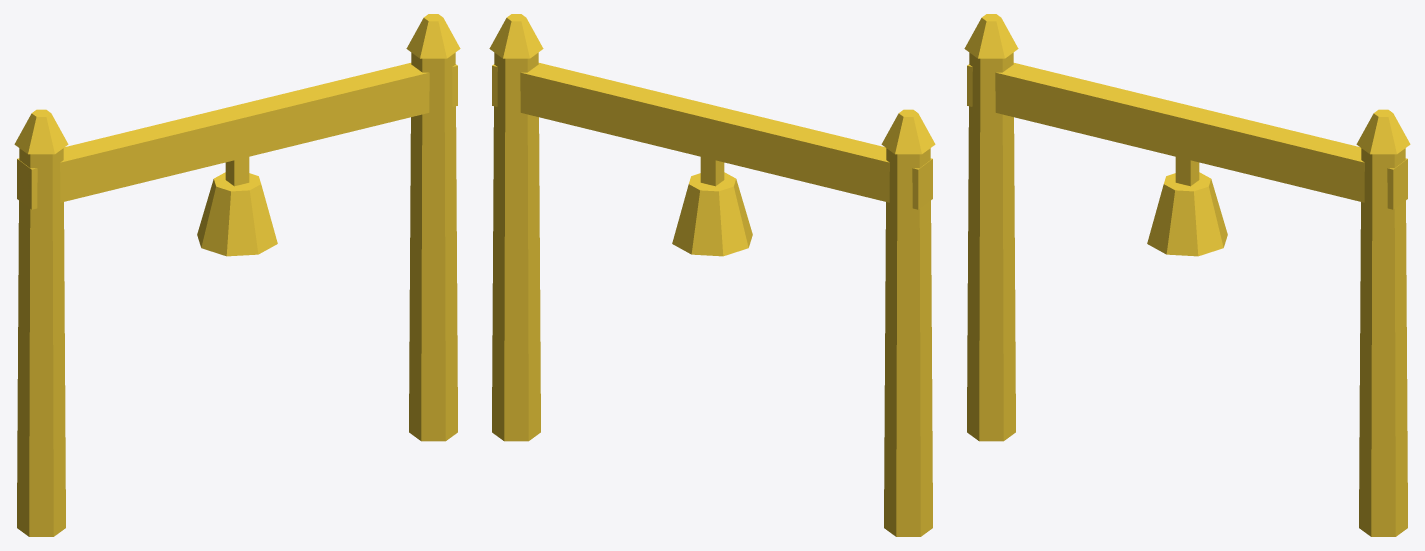
File: ChickenGate_Arch.fbx
3 renders of one model, left to right at view 1: azimuth 30°, elevation 25°; view 2: azimuth 150°, elevation 25°; view 3: azimuth 330°, elevation 25°, orthographic.
Visible parts, largest first — view 1: ChickenGate_Arch; view 2: ChickenGate_Arch; view 3: ChickenGate_Arch.
Boxes of the visible parts, x1,y1,x2,y2 form: ChickenGate_Arch: (14,14,460,536); ChickenGate_Arch: (489,14,935,536); ChickenGate_Arch: (964,14,1410,536).
Bounding box in the file's own units: 1.02 × 0.93 × 0.17.
1 material, 1 textured.
